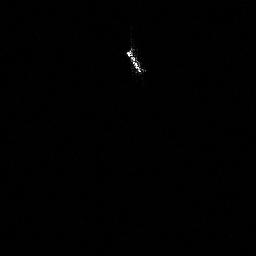ship: (124, 46, 147, 75)
